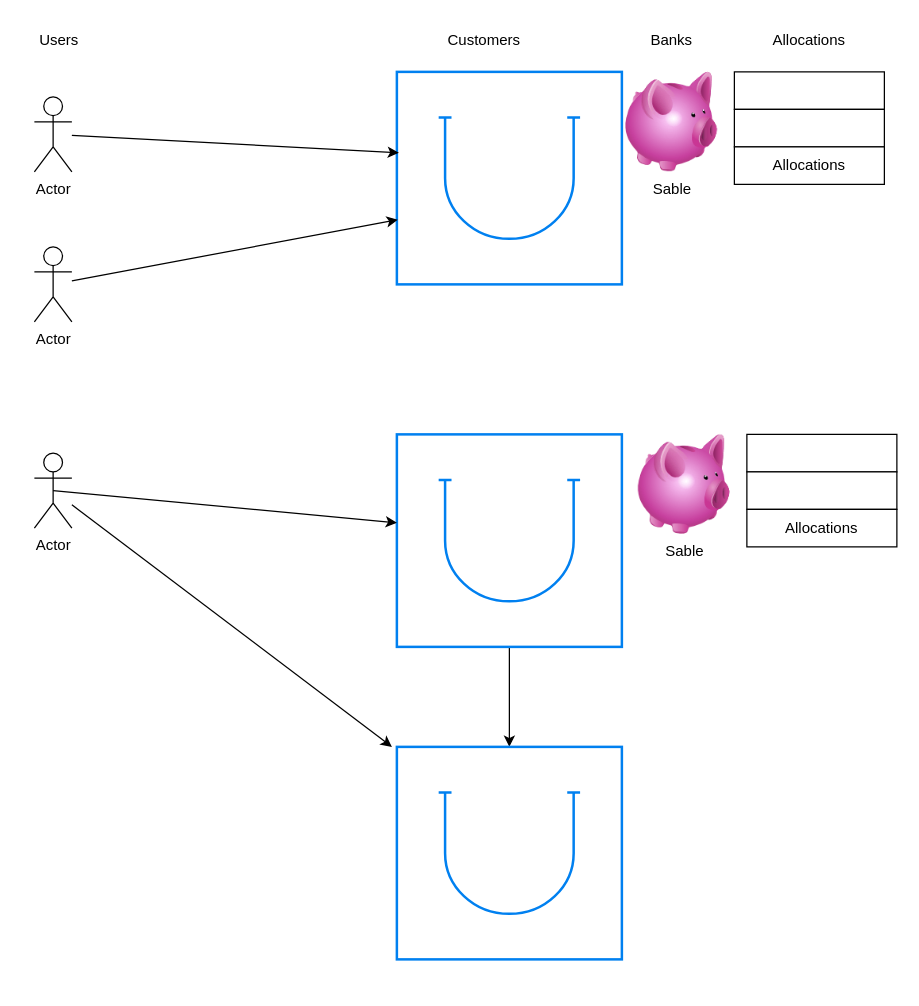
This 919x1006 diagram has some shape labels left out. The centre of each missing label's shape, as x and y in pixels:
"London 1" goes at pixel 508 540.
"London 2" goes at pixel 508 852.
"New York" goes at pixel 508 177.
